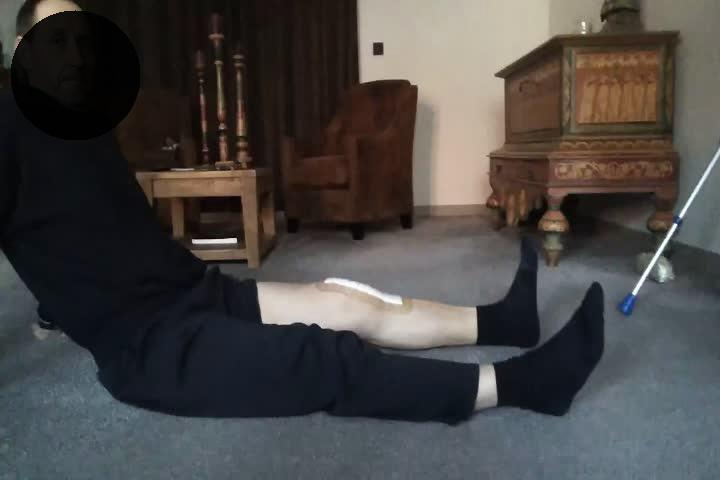lower_body: (90, 220, 615, 438)
